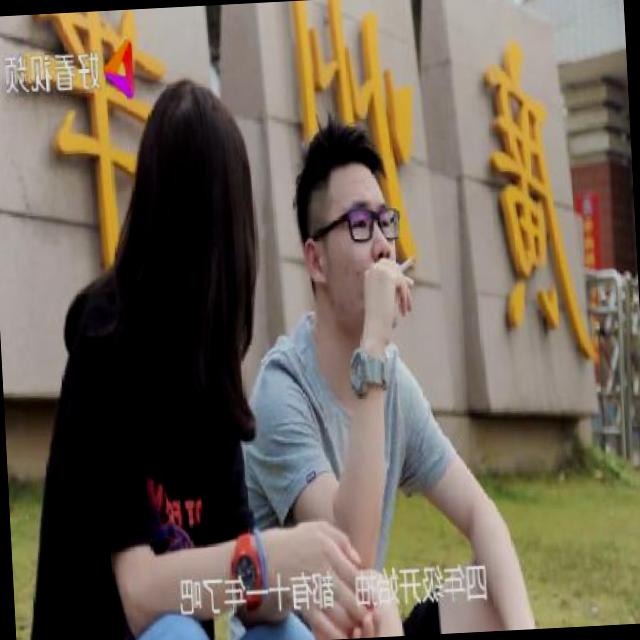cigarette: (392, 244, 422, 281)
